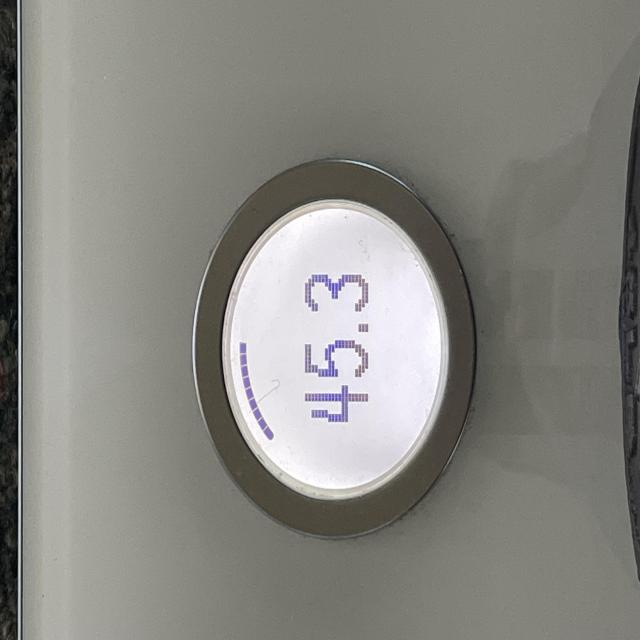ws: (192, 161, 477, 541)
